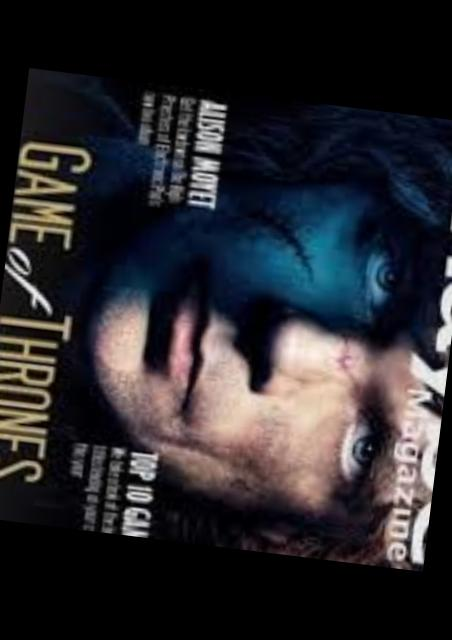cardboard paper: (0, 68, 452, 572)
